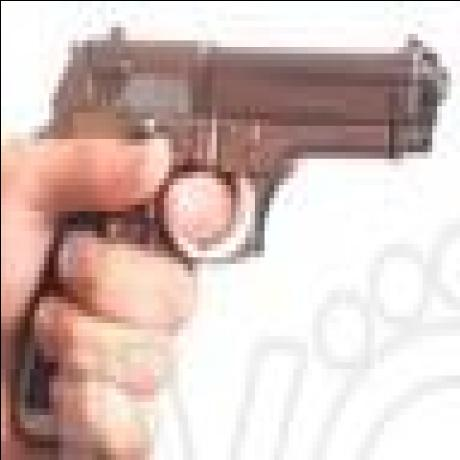weapon: (75, 25, 453, 252)
